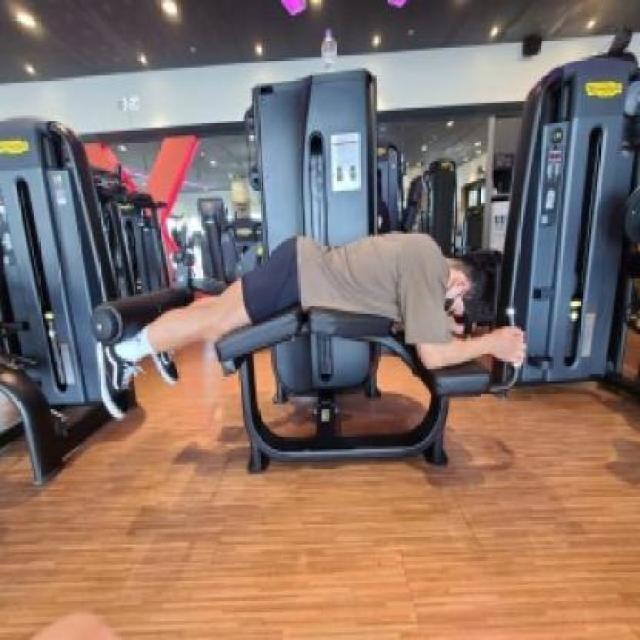reg curl machine: (86, 64, 531, 478)
